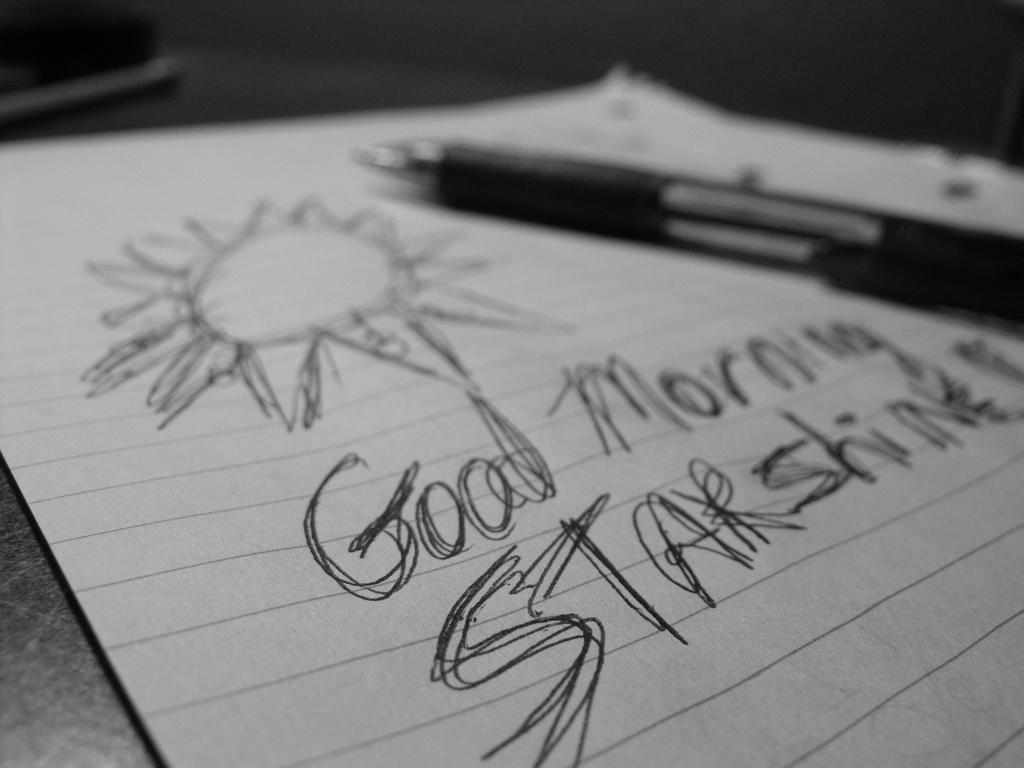pen: (345, 150, 1023, 336)
